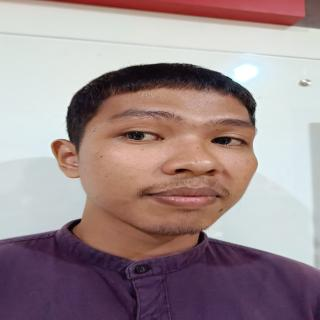Takut: (73, 88, 271, 241)
